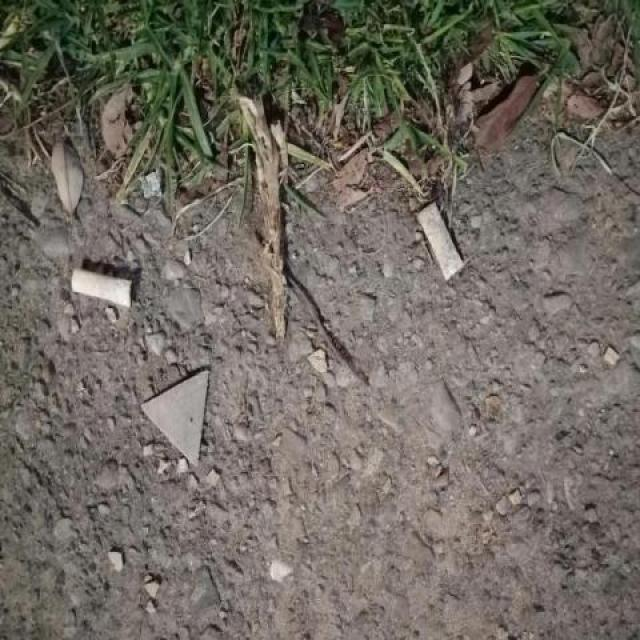non-organic waste: (412, 198, 473, 286), (67, 263, 136, 313)
